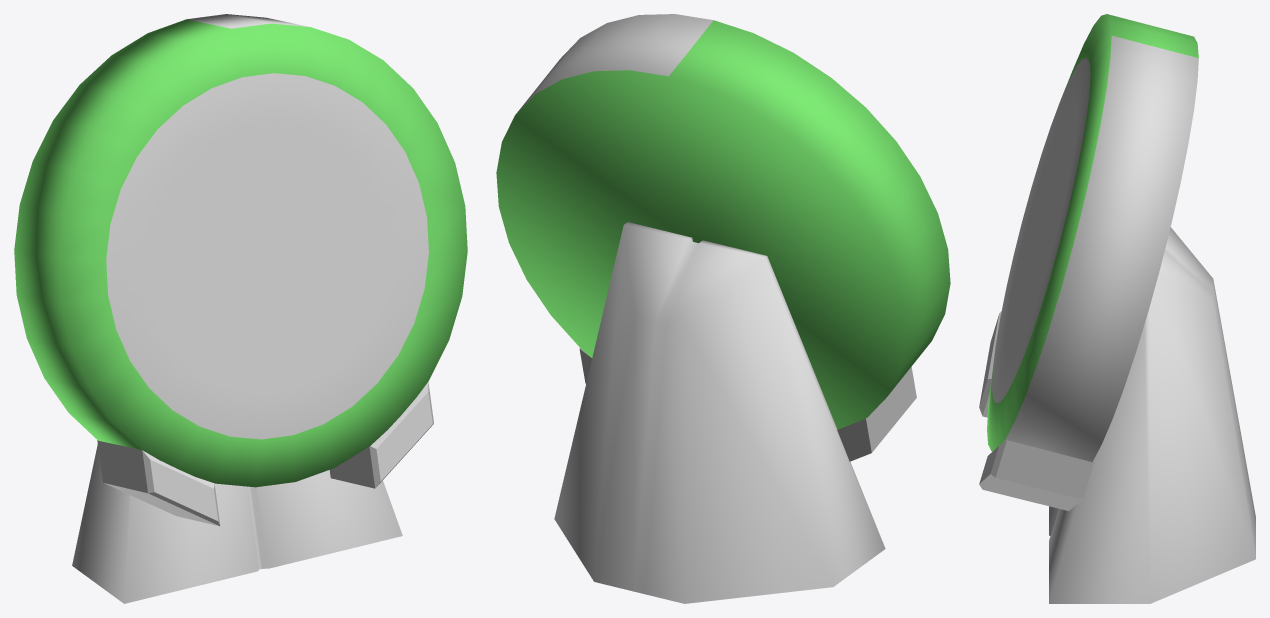
The model's file is ArcheryTarget.fbx.
3 views of the same model, side by side, from view 1: azimuth 30°, elevation 25°; view 2: azimuth 150°, elevation 25°; view 3: azimuth 270°, elevation 25° (orthographic). The views are drawn at different scales.
Parts seen in each view (by area): view 1: ArcheryTarget; view 2: ArcheryTarget; view 3: ArcheryTarget.
Boxes of the visible parts, x1,y1,x2,y2 form: ArcheryTarget: (14, 14, 467, 603); ArcheryTarget: (496, 14, 950, 603); ArcheryTarget: (979, 14, 1255, 603).
Bounding box in the file's own units: 1.5 × 1.84 × 0.9157.
